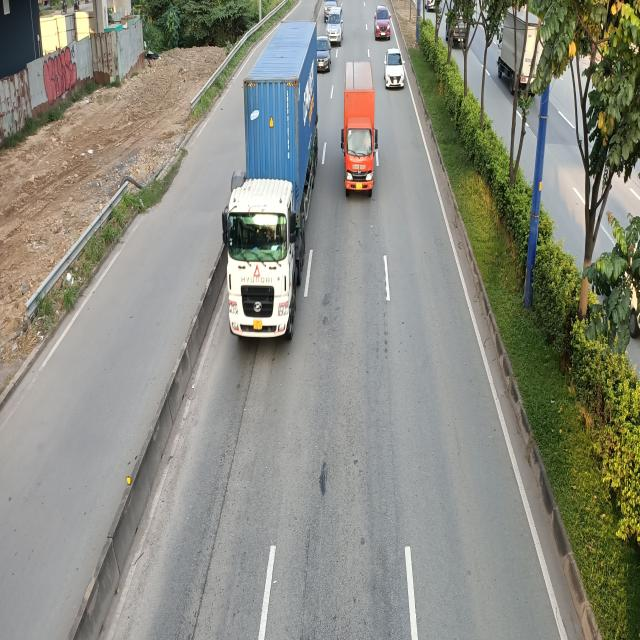car: (384, 49, 405, 90), (374, 6, 392, 42), (315, 34, 331, 70), (327, 6, 343, 42)
container: (220, 20, 320, 343)
truck: (341, 58, 378, 198)
